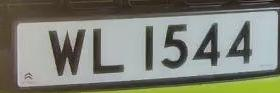1: (134, 18, 163, 76)
4: (189, 18, 225, 74), (223, 14, 257, 71)
5: (158, 16, 194, 75)
L: (88, 23, 132, 79)
W: (47, 23, 88, 80)
